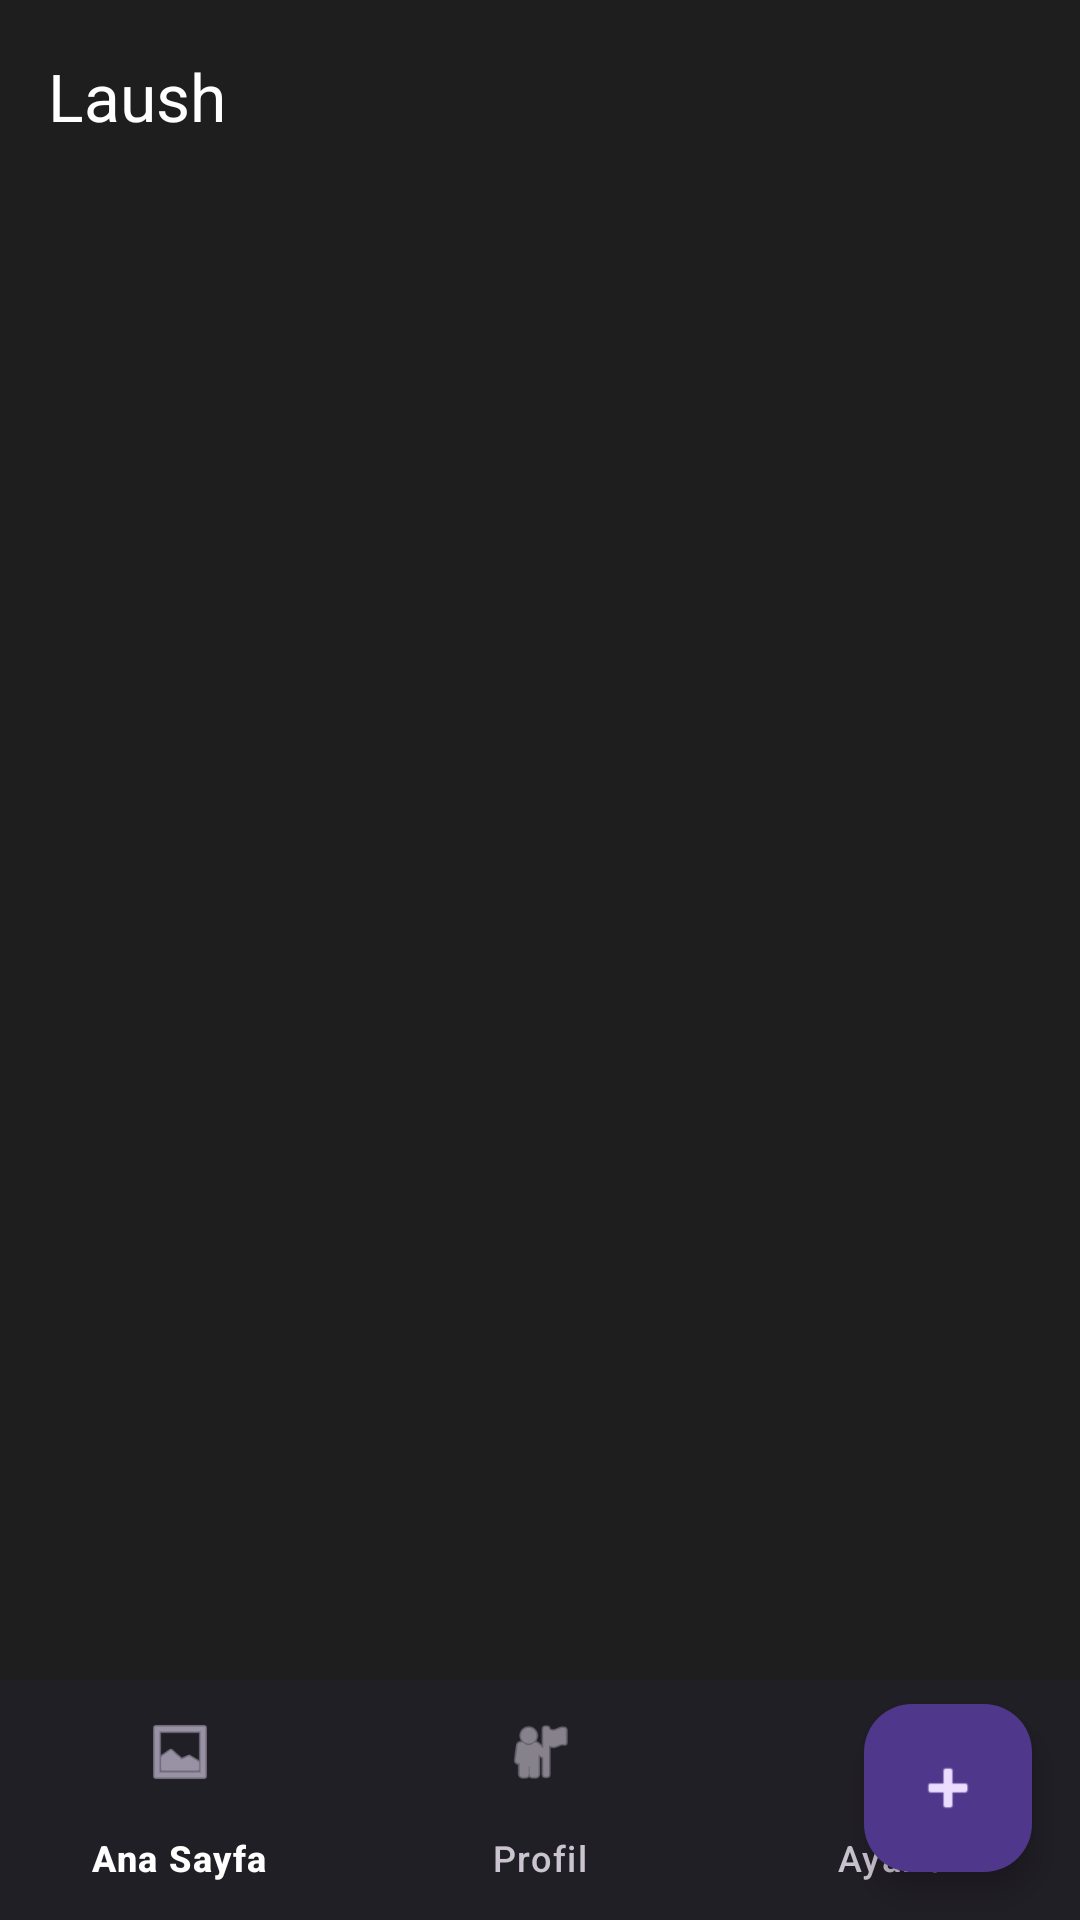

Icon bounding boxes for this 1080*1920 phone screenshot, format (x1, y1, x2, y2):
Yeni gönderi: (864, 1704, 1032, 1872)
